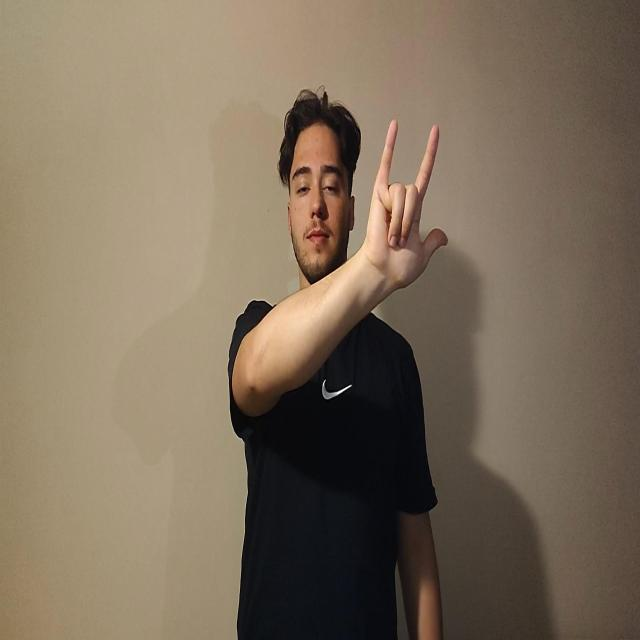iloveyou: (363, 117, 448, 298)
